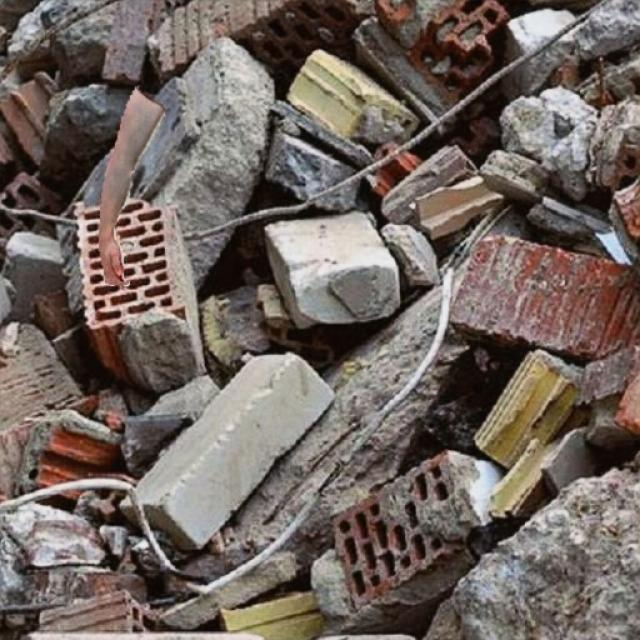Person in Rubble: (98, 86, 164, 285)
